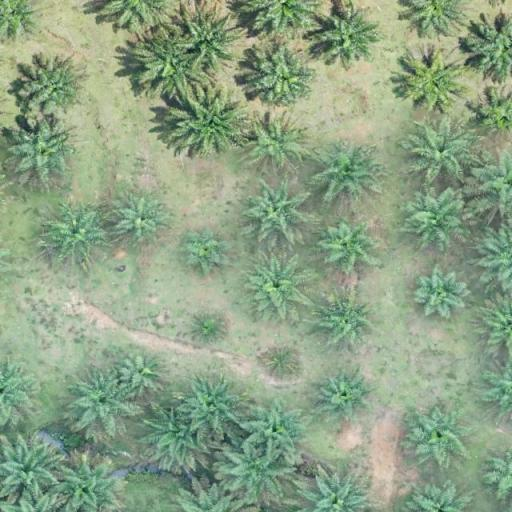Ganoderma: (409, 60, 460, 105)
